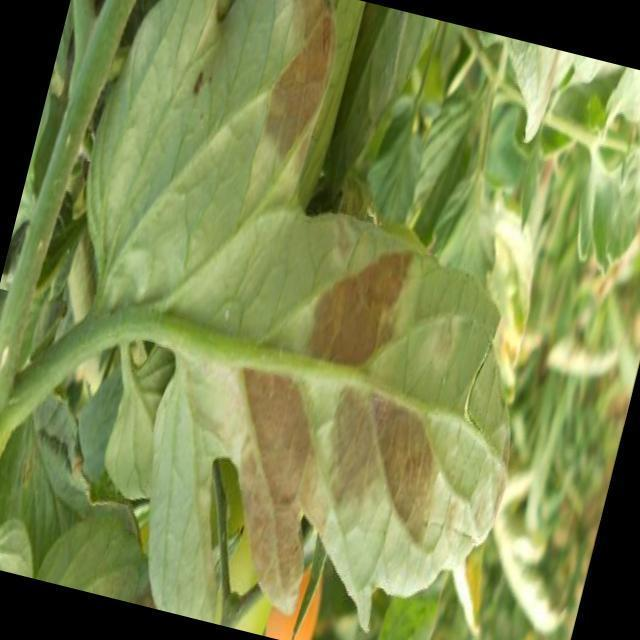Mosaic Virus: (178, 209, 505, 640), (223, 0, 355, 200)
